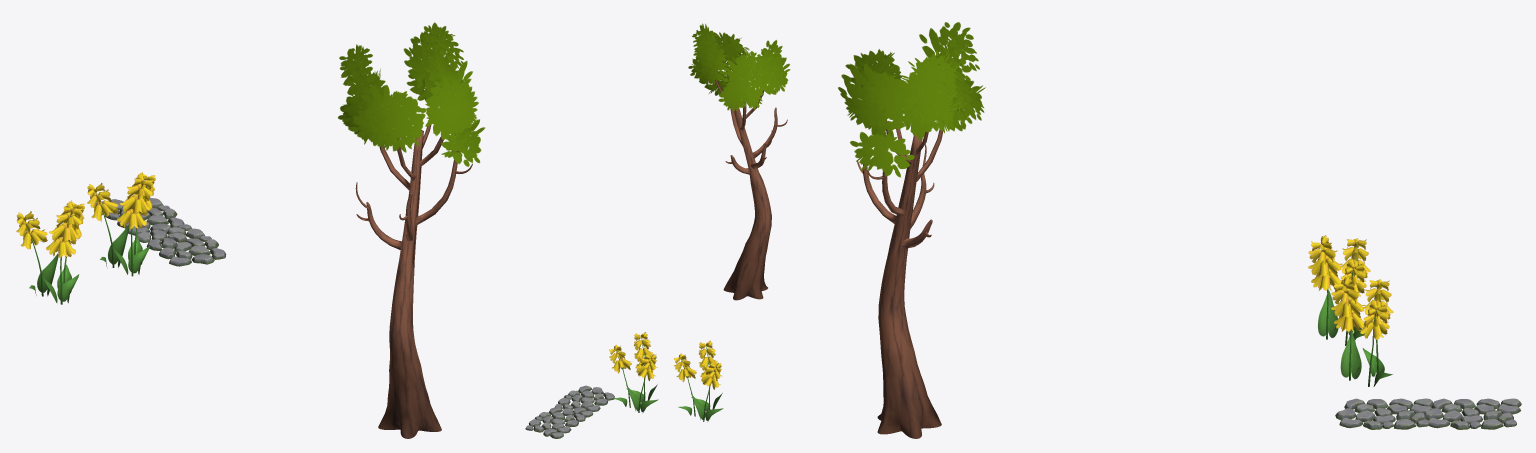
File: test-world.glb
3 renders of one model, left to right at view 1: azimuth 30°, elevation 25°; view 2: azimuth 150°, elevation 25°; view 3: azimuth 270°, elevation 25°, orthographic. The views are drawn at different scales.
Visible parts, largest first — view 1: CommonTree_4[StaticNodePrefab], Flower_4_Group.001, Flower_4_Group, RockPath_Round_Thin, RockPath_Round_Thin.001; view 2: CommonTree_4[StaticNodePrefab], Flower_4_Group, Flower_4_Group.001, RockPath_Round_Thin.001, RockPath_Round_Thin; view 3: CommonTree_4[StaticNodePrefab], Flower_4_Group, Flower_4_Group.001, RockPath_Round_Thin.001, RockPath_Round_Thin.
Part boxes in pixels (left/top/right/bottom): CommonTree_4[StaticNodePrefab]: left=338, top=22, right=485, bottom=438; Flower_4_Group.001: left=16, top=200, right=84, bottom=304; Flower_4_Group: left=87, top=172, right=155, bottom=276; RockPath_Round_Thin: left=136, top=224, right=226, bottom=266; RockPath_Round_Thin.001: left=96, top=197, right=184, bottom=235; CommonTree_4[StaticNodePrefab]: left=688, top=23, right=790, bottom=300; Flower_4_Group: left=609, top=332, right=658, bottom=412; Flower_4_Group.001: left=674, top=340, right=723, bottom=422; RockPath_Round_Thin.001: left=525, top=407, right=585, bottom=438; RockPath_Round_Thin: left=554, top=385, right=614, bottom=417; CommonTree_4[StaticNodePrefab]: left=838, top=22, right=985, bottom=438; Flower_4_Group: left=1330, top=276, right=1393, bottom=386; Flower_4_Group.001: left=1308, top=235, right=1370, bottom=345; RockPath_Round_Thin.001: left=1424, top=398, right=1521, bottom=429; RockPath_Round_Thin: left=1335, top=398, right=1433, bottom=429.
Size of what is drawn, in the model's own units: 6.63 by 9.44 by 14.63.
Materials: 8 (8 with a texture image).
